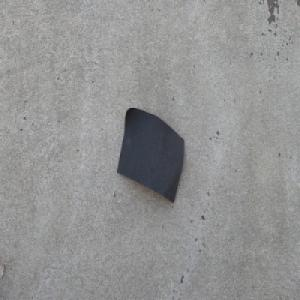PaintChip: (116, 106, 185, 203)
